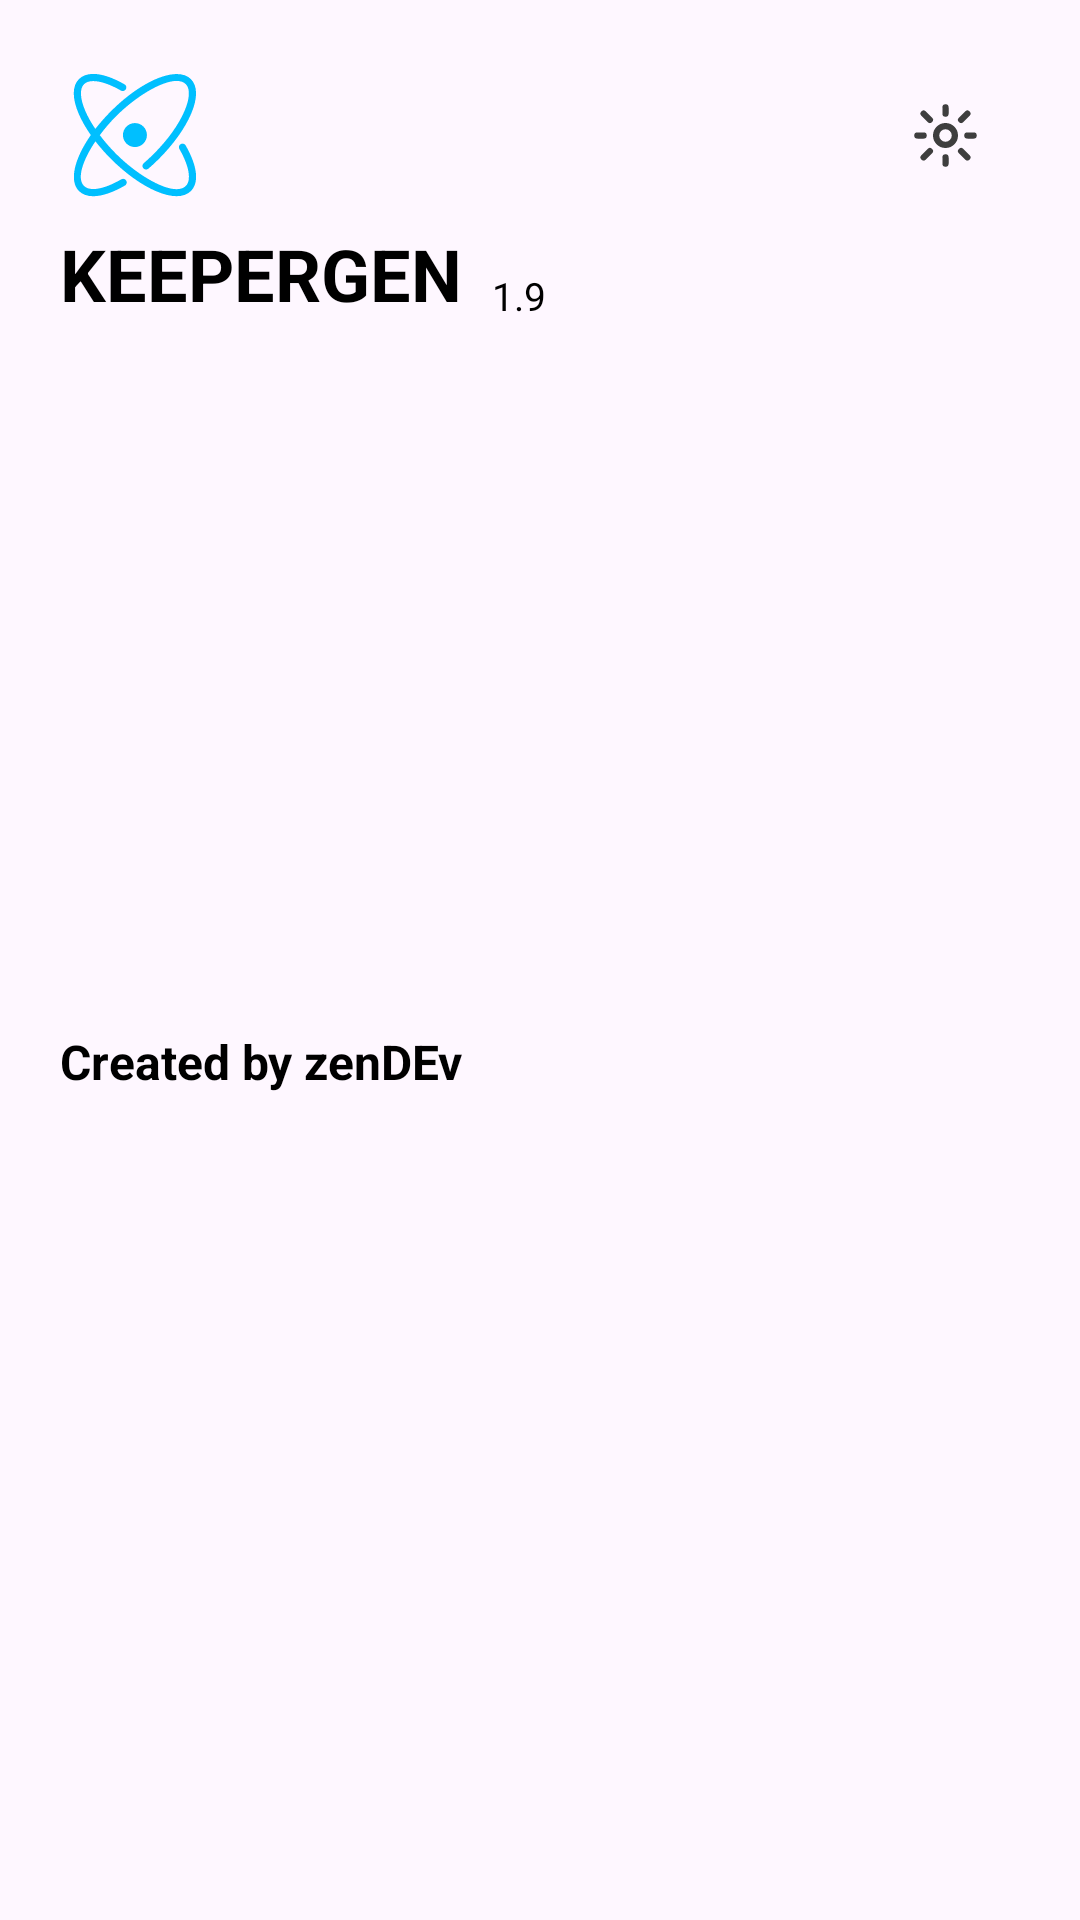

Icons on this 1080 x 1920 Android screen, each with its box as (x1=x1, y1=y1, x2=x2, y2=y2):
Theme: (x1=914, y1=104, x2=977, y2=167)
